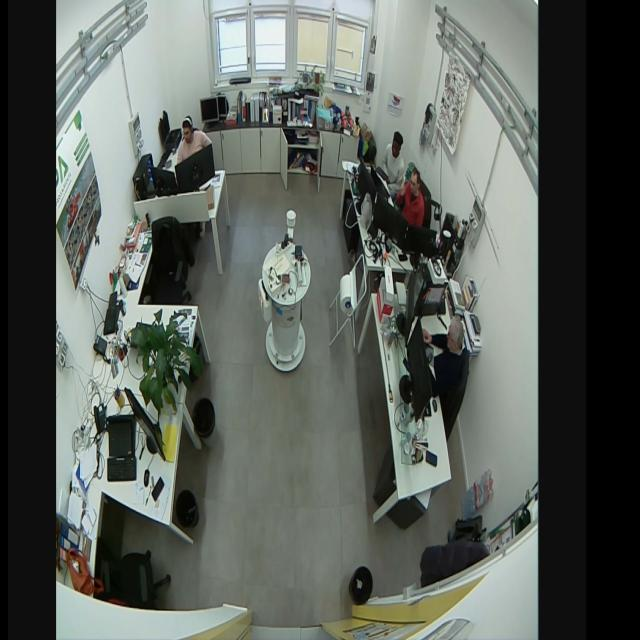Persona: (424, 313, 471, 415), (376, 128, 406, 197), (394, 165, 425, 228), (175, 114, 211, 164)
